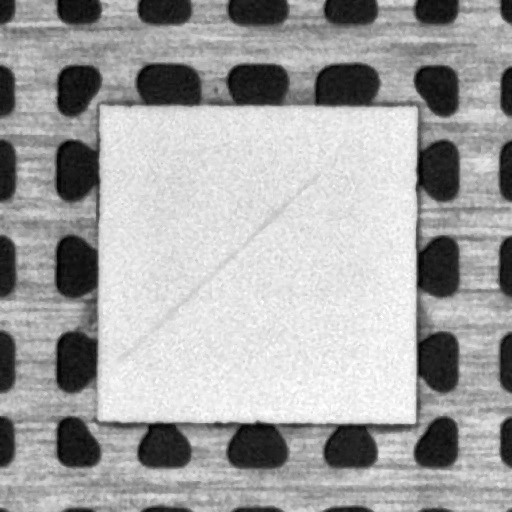DIE_CRACK: (118, 173, 316, 362)
